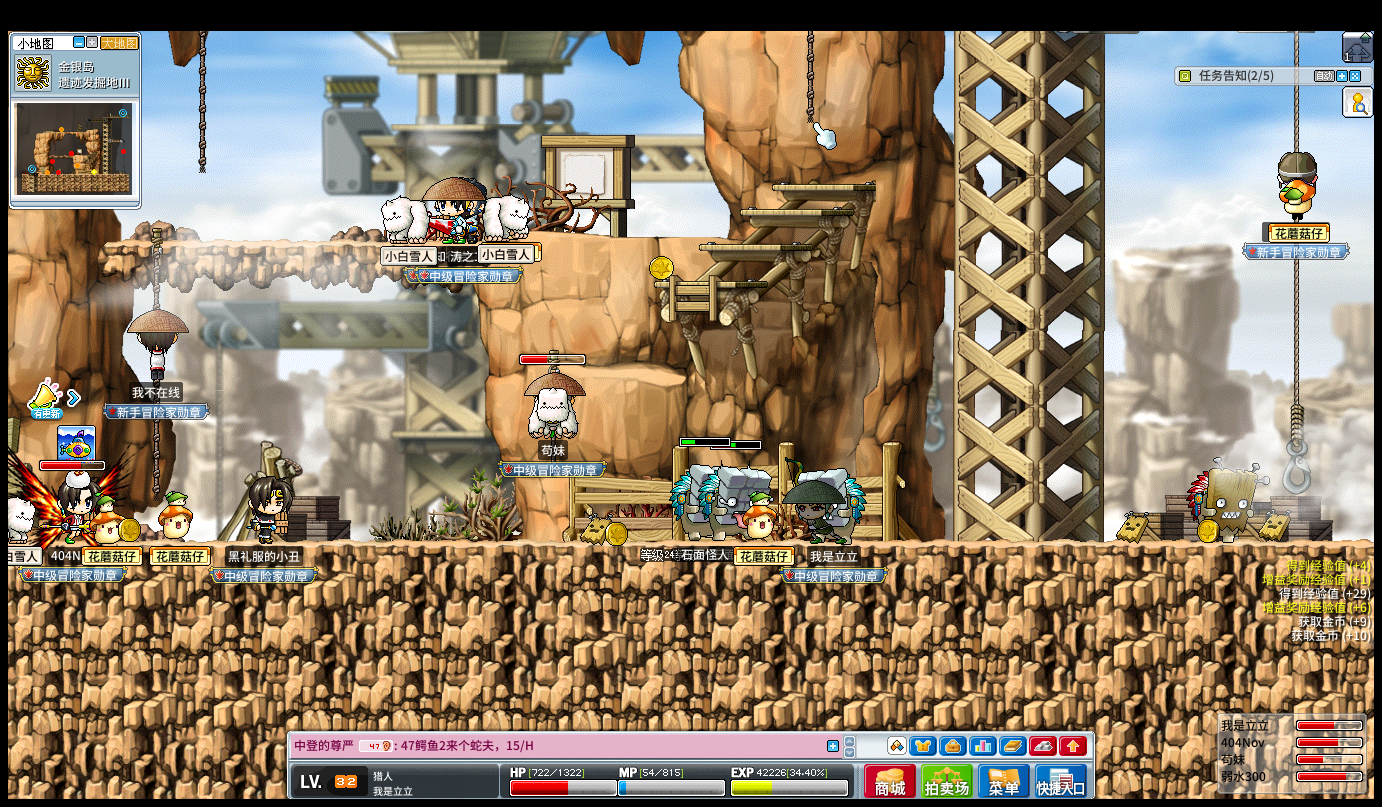floor: (102, 238, 478, 249), (582, 364, 688, 384), (738, 205, 853, 216), (589, 232, 734, 240), (649, 278, 766, 287), (736, 207, 849, 215), (697, 243, 810, 251), (771, 183, 875, 191)
monster: (1186, 459, 1266, 543), (703, 466, 771, 533), (700, 465, 748, 540), (716, 466, 773, 504)
rope: (1291, 257, 1302, 406), (198, 30, 207, 174), (804, 29, 814, 123), (150, 227, 161, 309), (153, 418, 164, 497), (1292, 30, 1299, 149), (1288, 399, 1303, 451), (152, 419, 161, 493)
